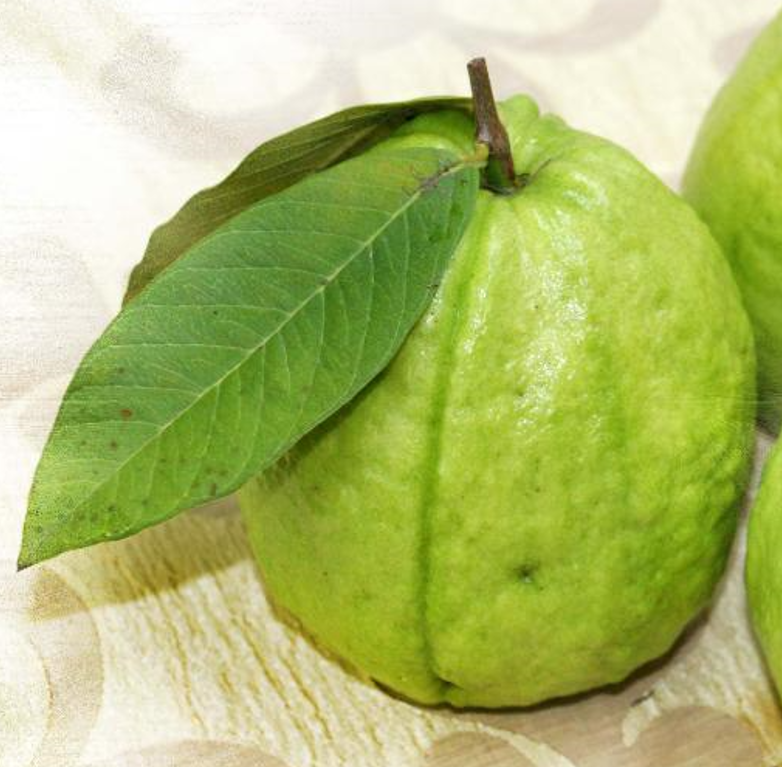guava_B: (228, 98, 757, 708)
